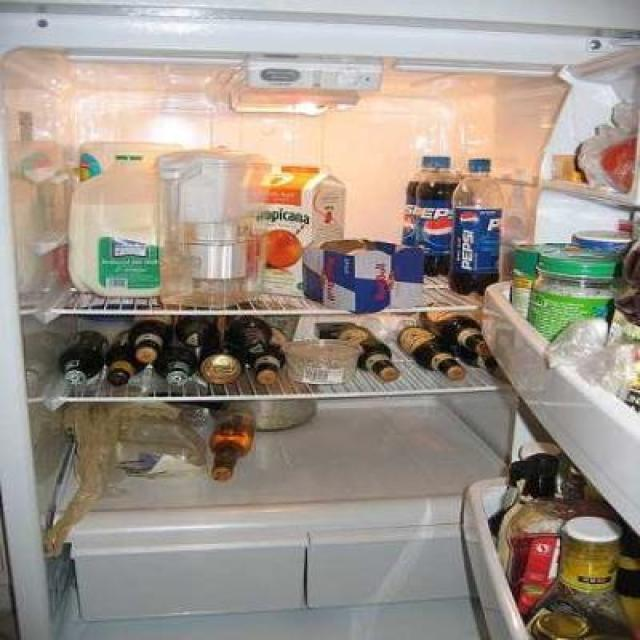refrigerator: (3, 46, 635, 640)
